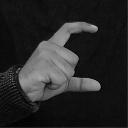hand: (18, 20, 101, 102)
